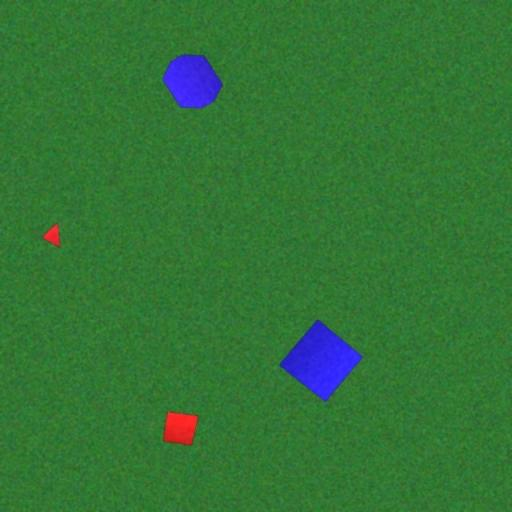BLUE_SQUARE: (278, 318, 363, 402)
RED_SQUARE: (162, 412, 199, 446)
